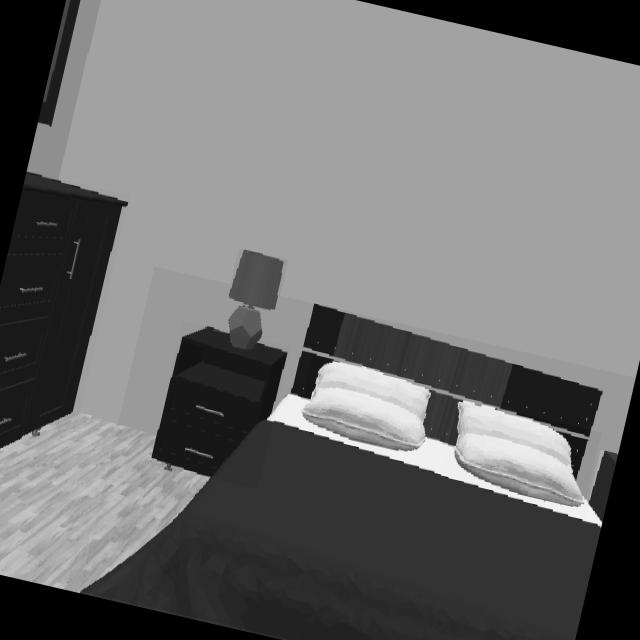bed: (79, 304, 602, 640), (150, 328, 287, 478)
cabinet: (0, 171, 127, 448)
lamp: (227, 250, 284, 350)
nighttable: (151, 328, 287, 475), (588, 451, 617, 522)
pillow: (454, 401, 584, 507), (299, 363, 430, 452)
